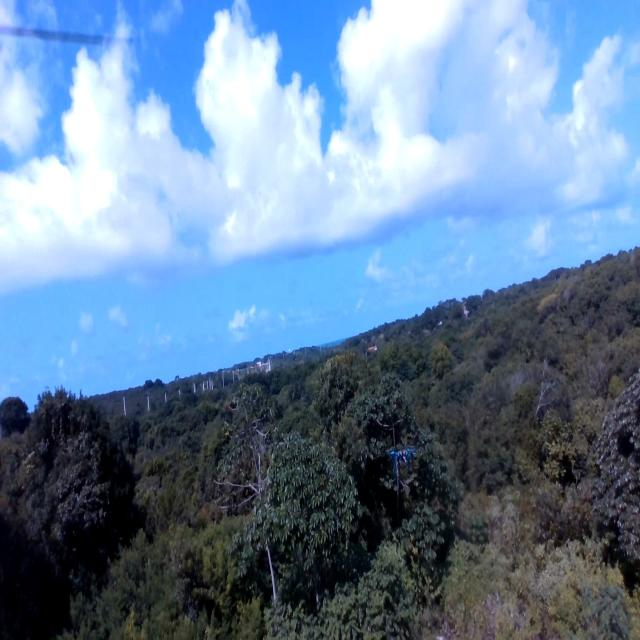-uav-: (390, 438, 413, 483)
